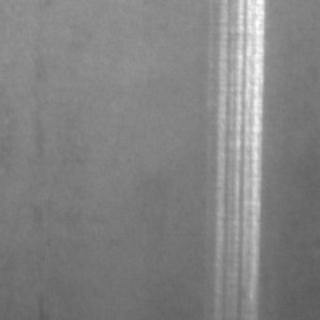scratches: (208, 1, 268, 316)
